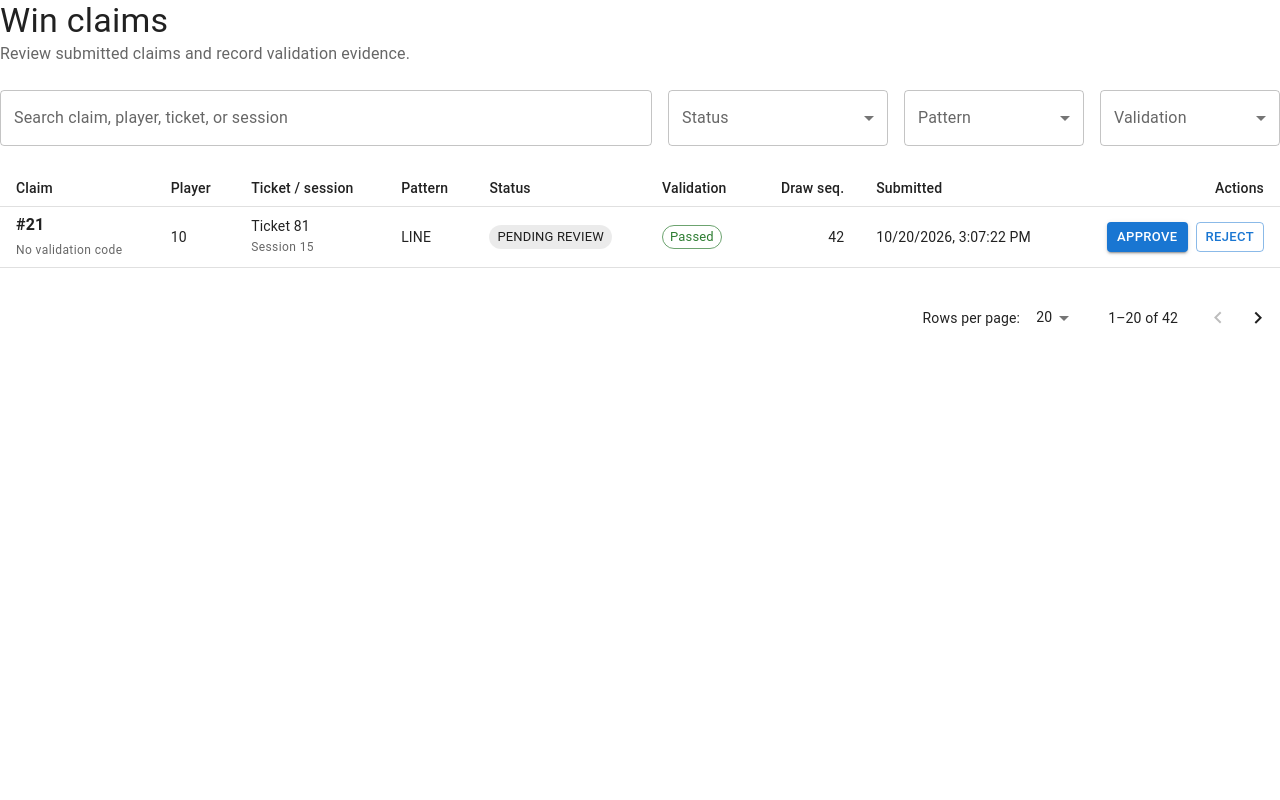
it: ClaimsPage › requires a review reason and reports errors without duplicate claim approval
Expected: the row with test id "claim-row-21" is shown, [0,206,1279,267]
Click the button with test id "claim-approve-21" at (1147, 237), box [1107,222,1188,252]
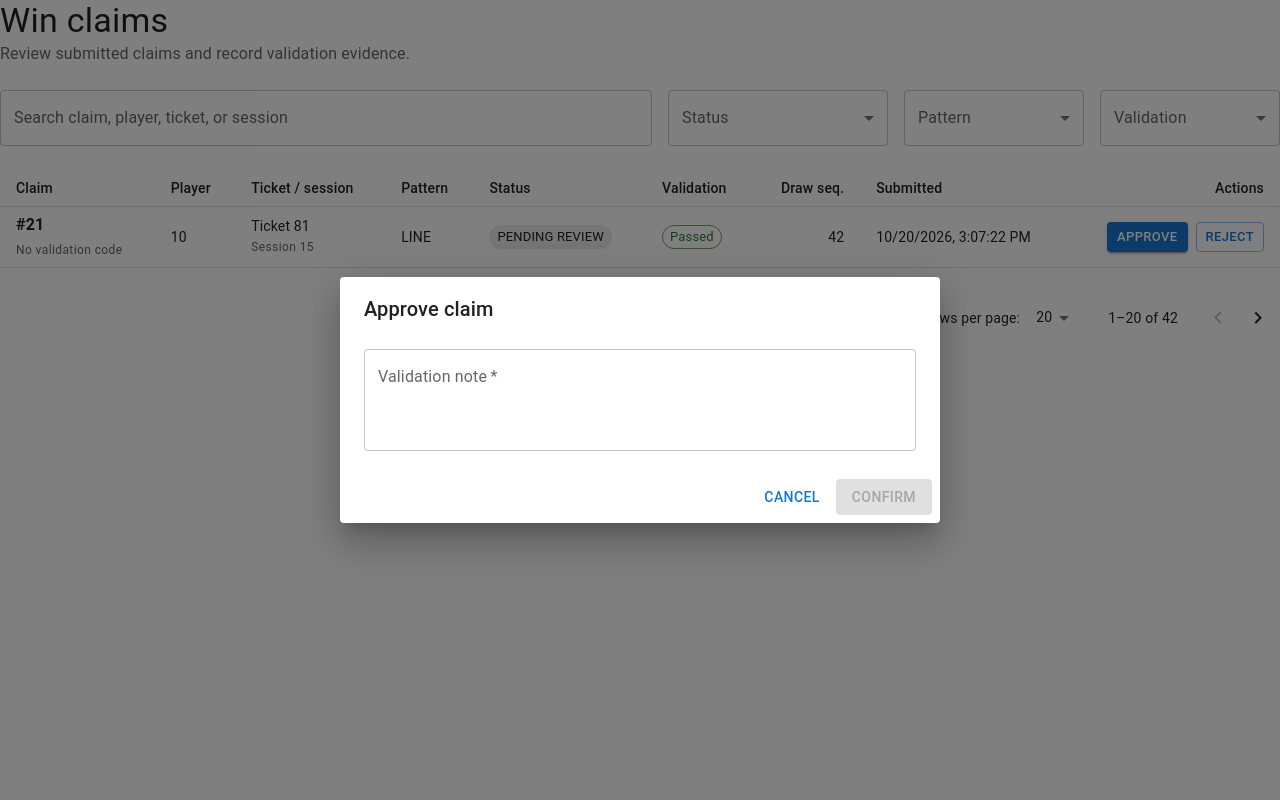
Expected: the button "Confirm" is disabled, [836,479,932,515]
Type "Verified against draw" into the text box labelled "Validation note" at (640, 400), box [378,365,902,434]
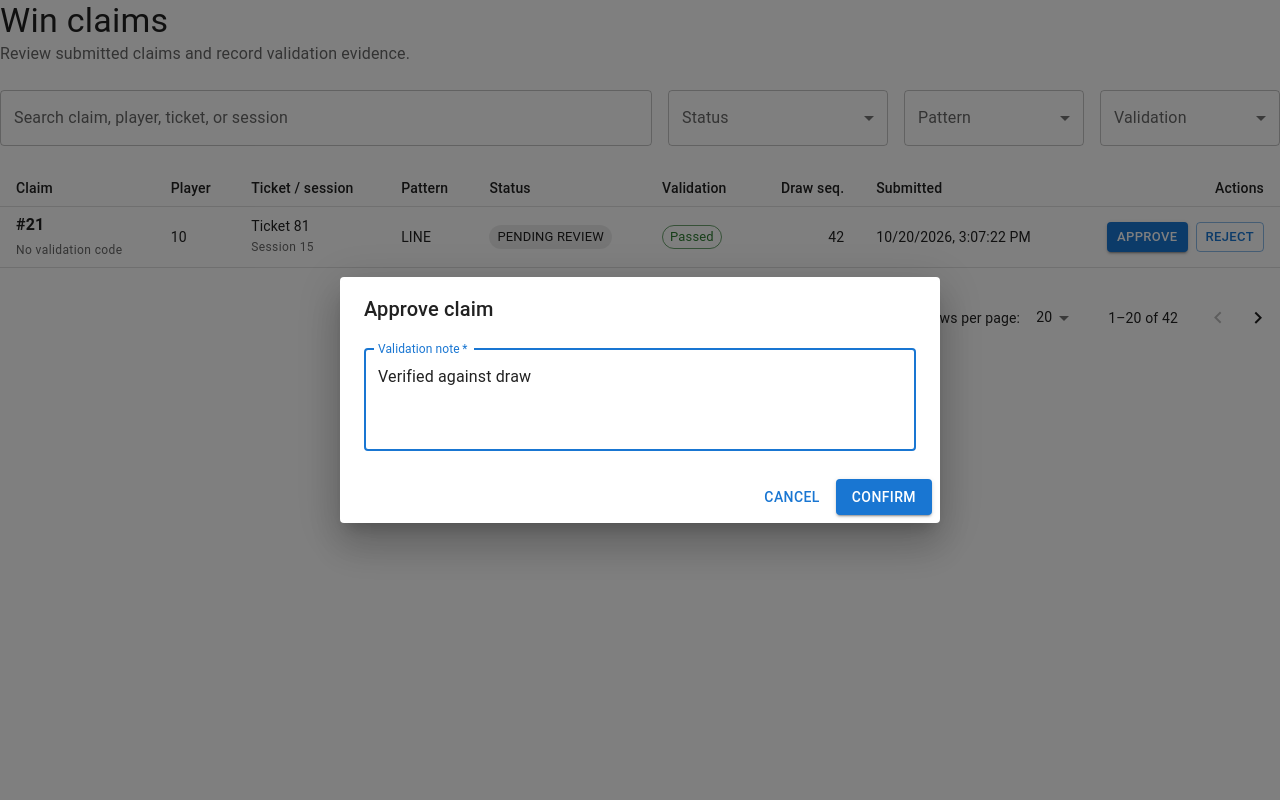
Expected: the button "Confirm" is enabled
Click the button "Confirm" at (884, 497), box [836,479,932,515]
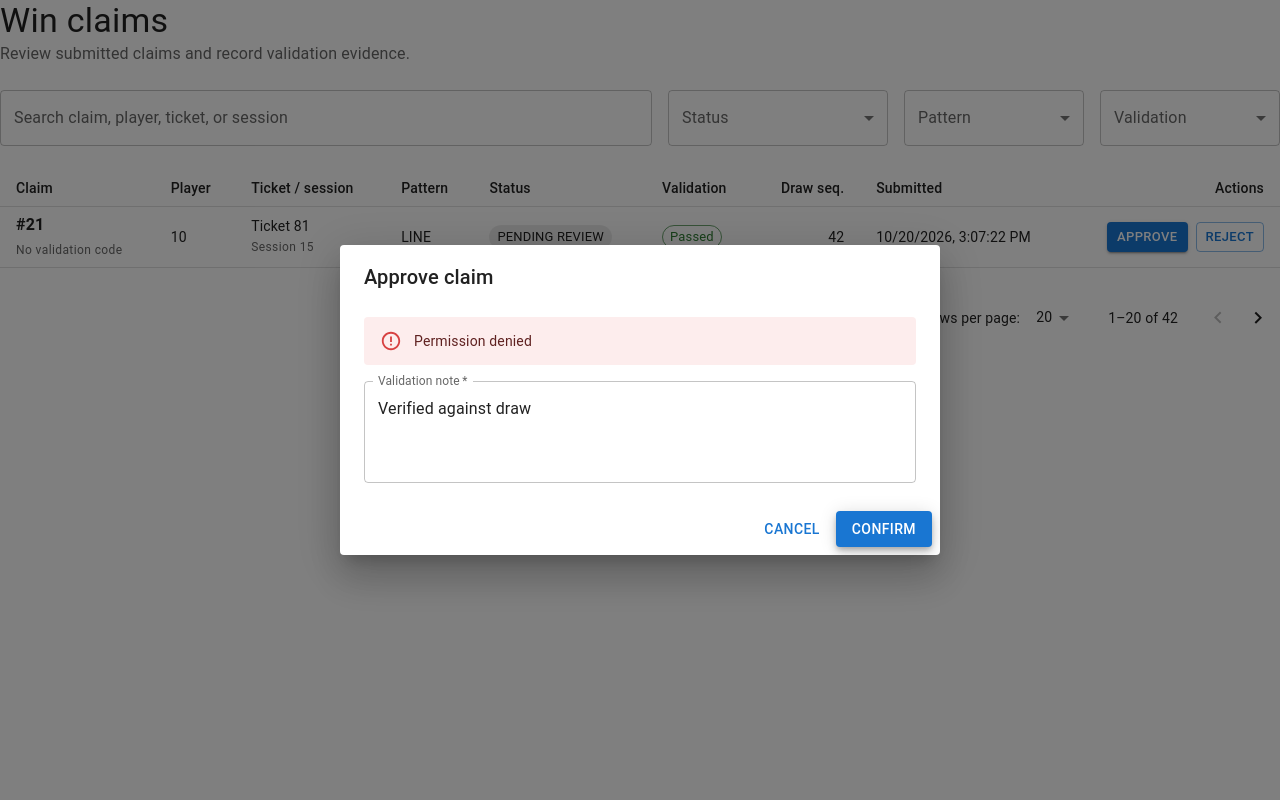
Expected: the message reads "Permission denied", [414,333,532,349]
